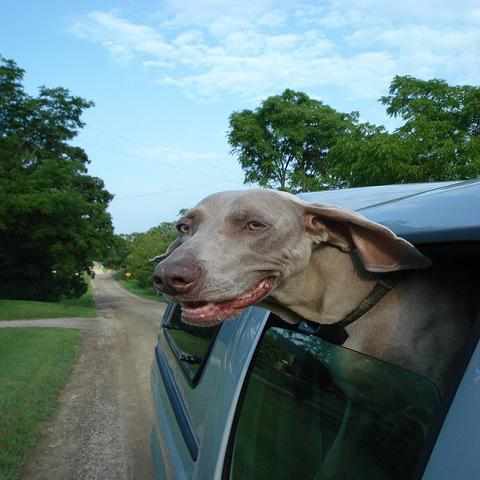car: (149, 176, 479, 476)
